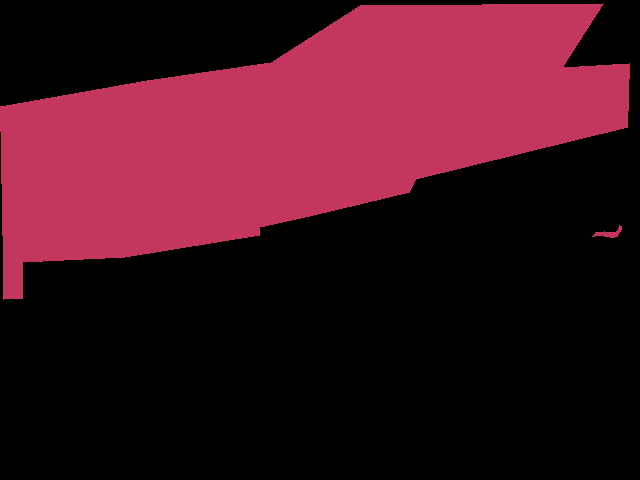Airplane: (0, 3, 629, 299), (592, 225, 622, 237)
